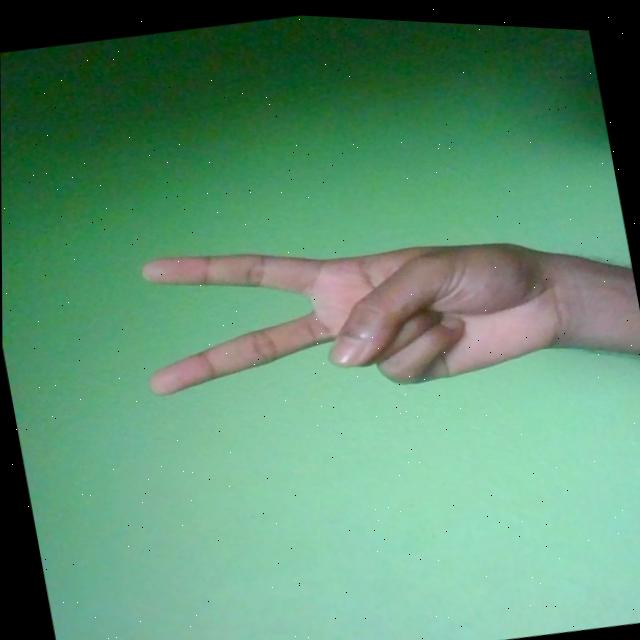Peace: (124, 183, 581, 431)
